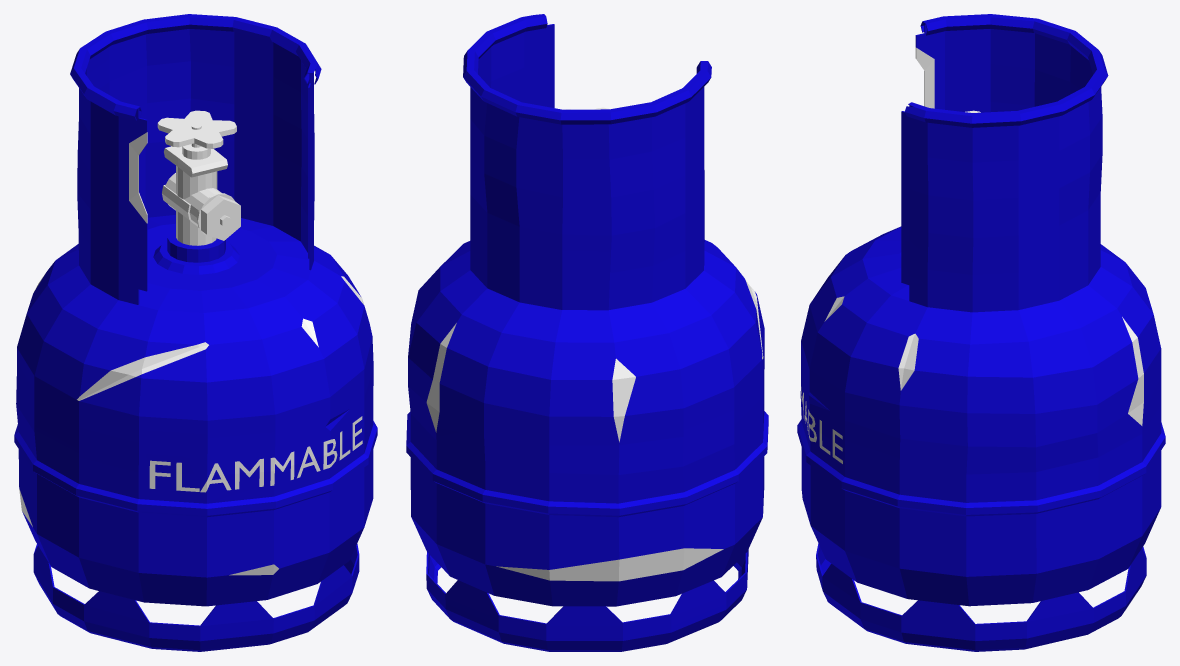
Rendered from SM_GAS_CYLINDER_02.glb.
3 views of the same model, side by side, from view 1: azimuth 30°, elevation 25°; view 2: azimuth 150°, elevation 25°; view 3: azimuth 270°, elevation 25° (orthographic).
Parts seen in each view (by area): view 1: SM_GAS_CYLINDER_02; view 2: SM_GAS_CYLINDER_02; view 3: SM_GAS_CYLINDER_02.
Boxes of the visible parts, x1,y1,x2,y2 form: SM_GAS_CYLINDER_02: [14, 14, 377, 651]; SM_GAS_CYLINDER_02: [406, 14, 768, 651]; SM_GAS_CYLINDER_02: [797, 14, 1165, 651].
Size of the model in its own units: 0.3313 by 0.5269 by 0.3369.
